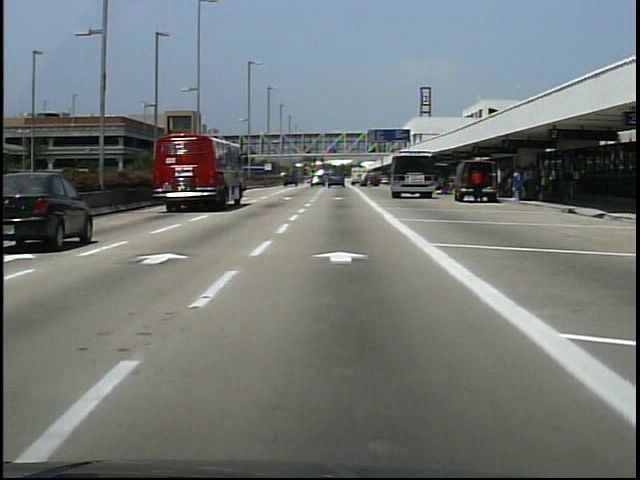person: (470, 164, 487, 205)
